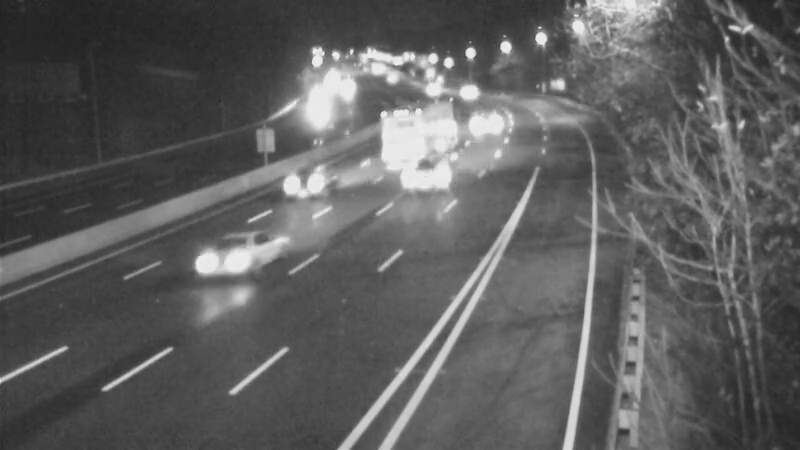vehicle: (387, 142, 467, 222), (263, 144, 343, 224), (204, 213, 284, 293), (405, 65, 455, 115), (445, 65, 495, 115), (461, 106, 511, 156), (378, 102, 428, 152), (293, 80, 343, 130)
